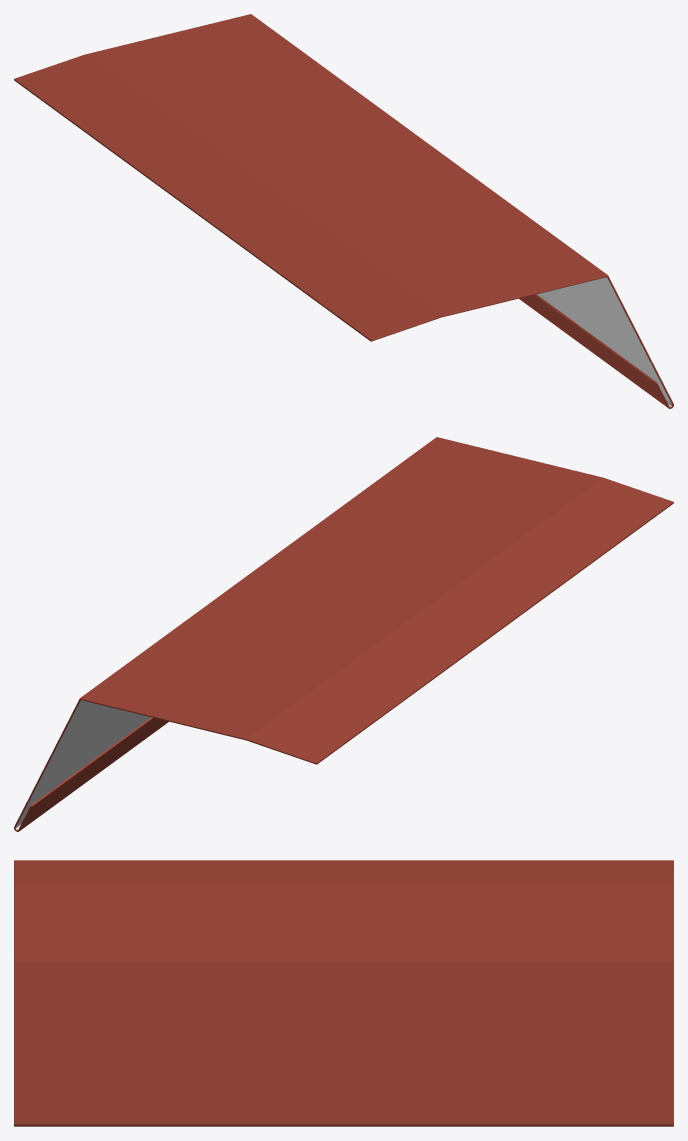
The picture shows the model from 3 angles, top to bottom: view 1: azimuth 30°, elevation 25°; view 2: azimuth 150°, elevation 25°; view 3: azimuth 270°, elevation 25°; orthographic projection. The views are drawn at different scales.
Parts seen in each view (by area): view 1: w1ll-k, w1ll-b; view 2: w1ll-k, w1ll-b; view 3: w1ll-k.
Boxes of the visible parts, x1=… form: w1ll-k: x1=14, y1=14, x2=673, y2=408; w1ll-b: x1=537, y1=277, x2=672, y2=406; w1ll-k: x1=14, y1=437, x2=673, y2=831; w1ll-b: x1=15, y1=700, x2=150, y2=829; w1ll-k: x1=14, y1=860, x2=673, y2=1126.
Size of the model in its own units: 981 by 461 by 2004.
